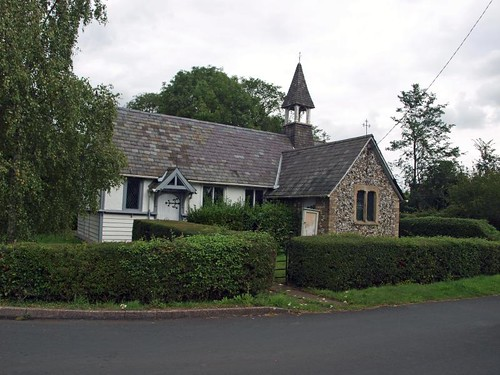building: (100, 95, 401, 249)
sky: (108, 1, 500, 87)
street: (27, 301, 500, 375)
tree: (1, 1, 114, 248), (389, 86, 459, 195)
